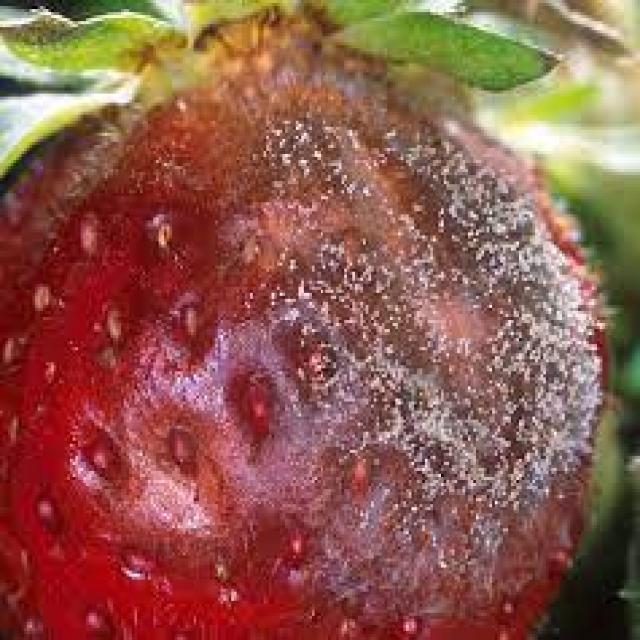Moho gris: (14, 57, 604, 632)
